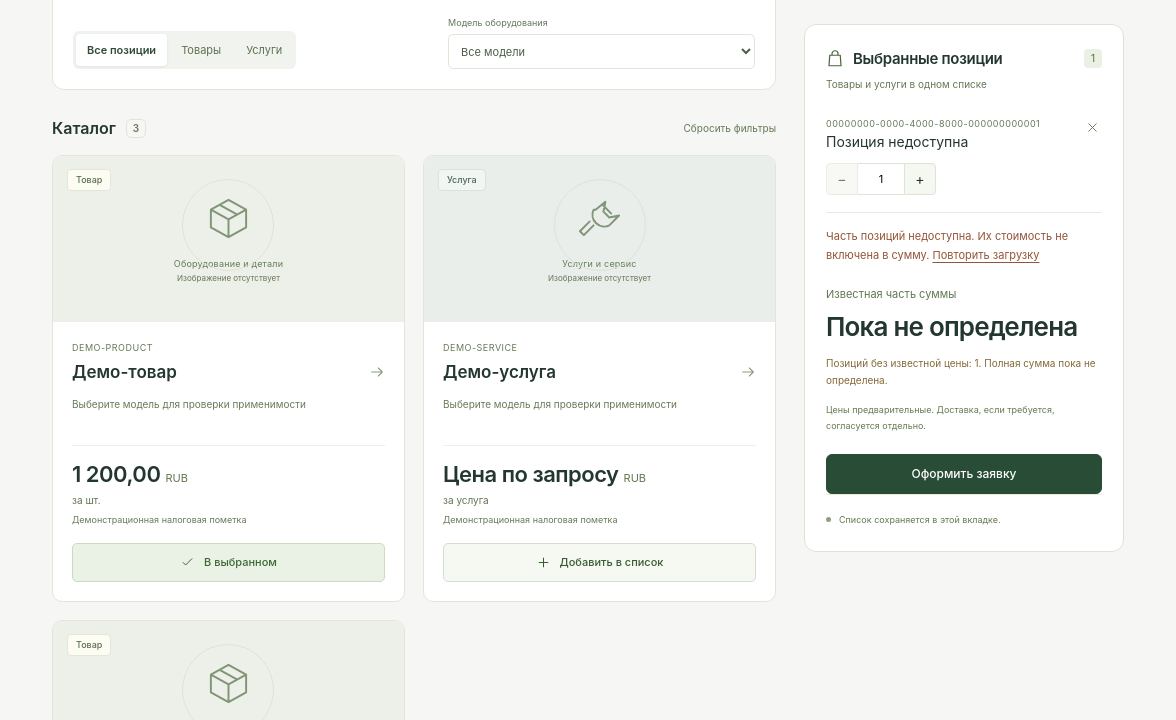
Test: catalog UI on approved fixtures › shows detail and selected-item errors, keeps unavailable IDs removable, retries
(page scrolled)
Expected: the text "Позиция недоступна" is shown, x1=826 y1=133 x2=968 y2=150
Expected: the text "Пока не определена" is shown, x1=826 y1=307 x2=1102 y2=346
What coordinates should you click on to do the following:
click the button "Демо-товар"
I would click on:
 (124, 372)
Its box is x1=72 y1=360 x2=385 y2=385.
(page scrolled)
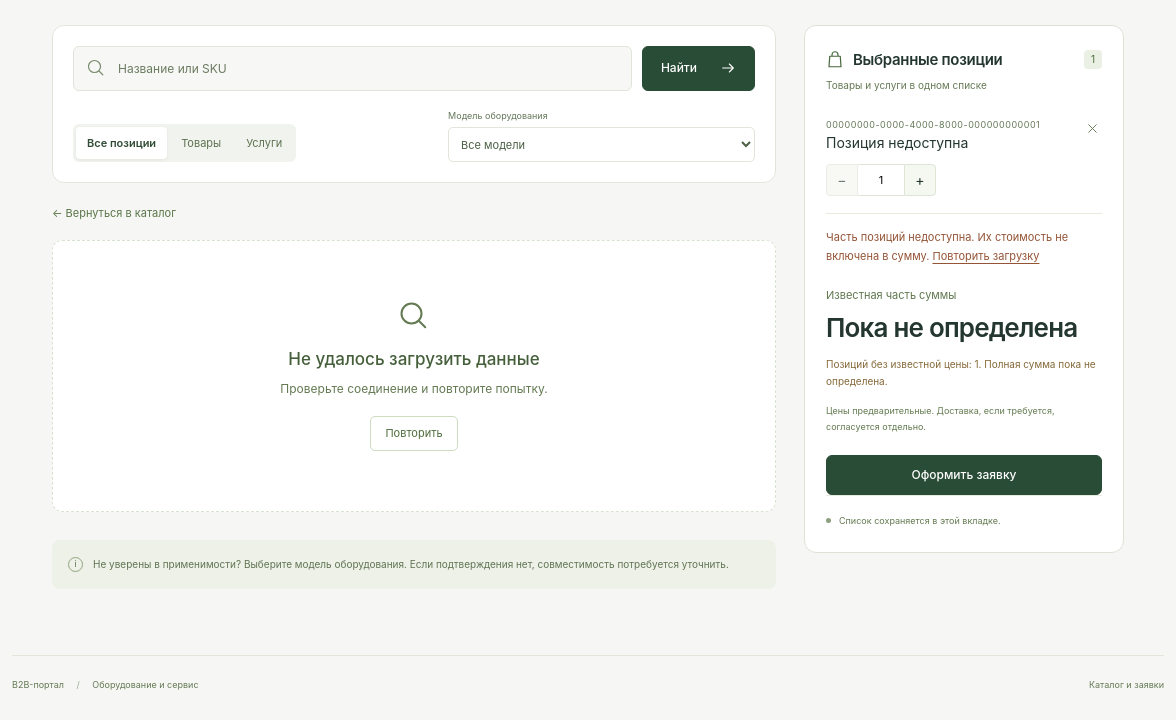
Now the heading "Не удалось загрузить данные" is shown, box x1=288 y1=347 x2=540 y2=372
What coordinates should you click on to do the following:
click the button "Повторить"
I would click on:
 (414, 433)
Its box is x1=370 y1=416 x2=458 y2=451.
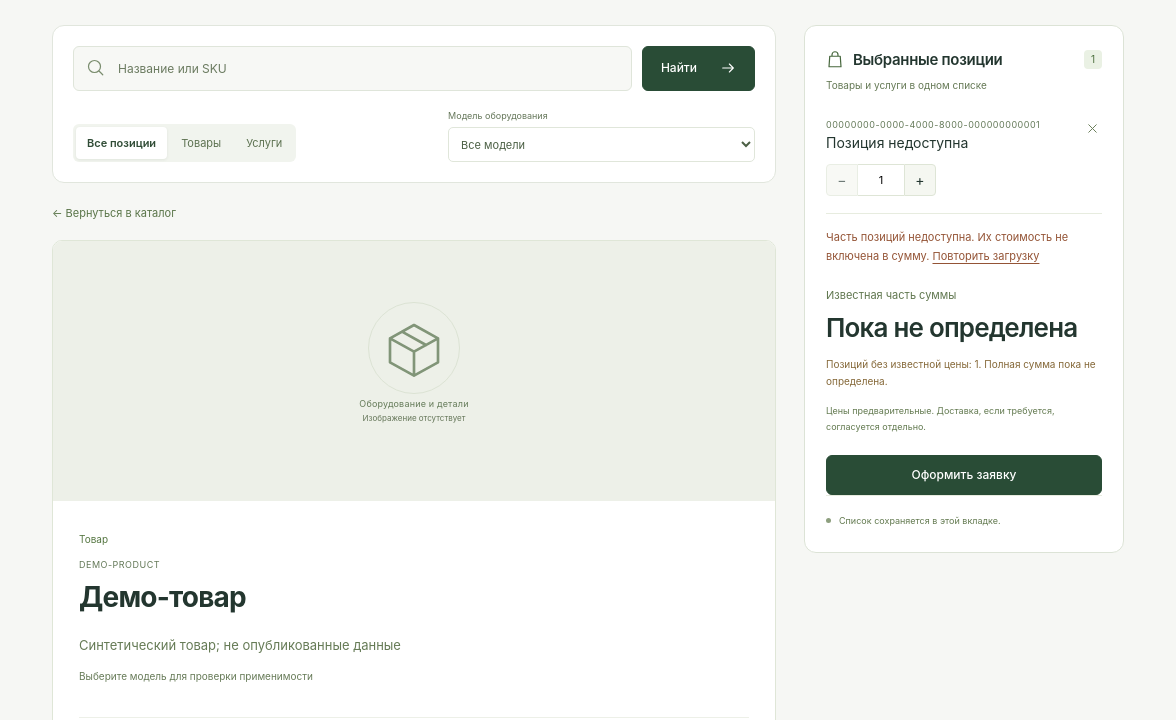
Now the text "Синтетический товар; не опубликованные данные" is shown, box x1=79 y1=637 x2=401 y2=653
What coordinates should you click on to do the following:
click the button "Повторить загрузку"
I would click on:
 (986, 257)
Its box is x1=932 y1=247 x2=1040 y2=267.
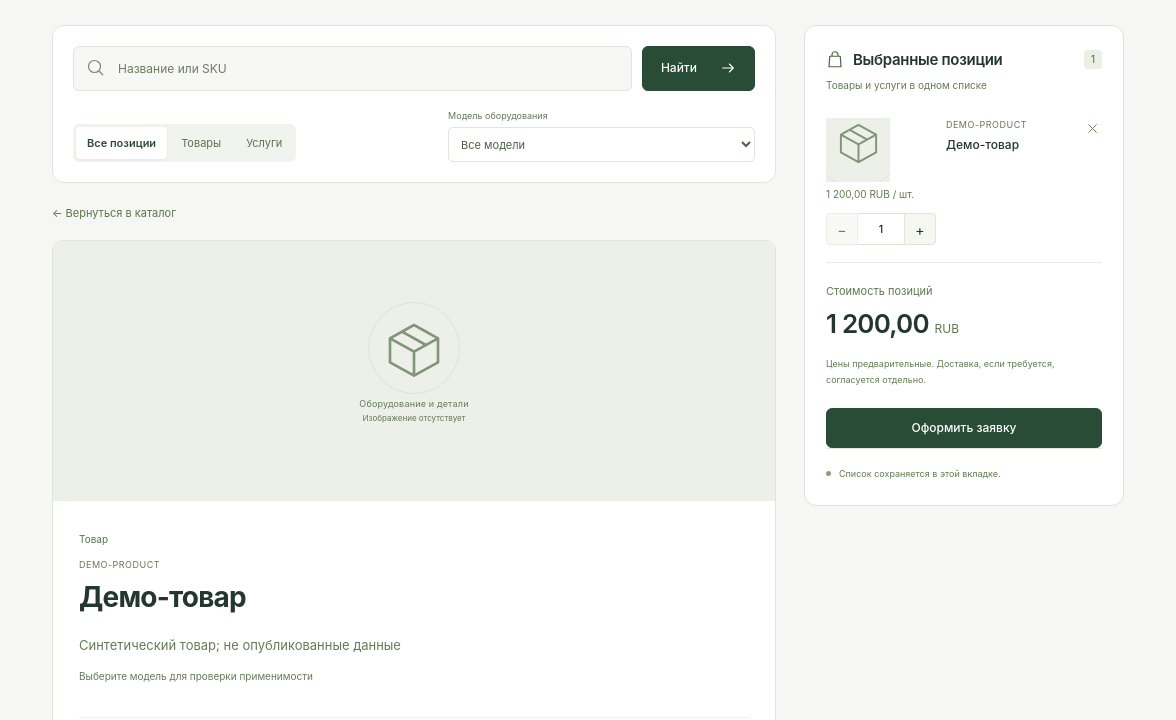
Now the button "Демо-товар" is shown, box x1=946 y1=132 x2=1019 y2=158
What coordinates should you click on to do the following:
click the button named "Удалить DEMO-PRODUCT"
I would click on:
 (1092, 131)
Its box is x1=1083 y1=118 x2=1102 y2=143.
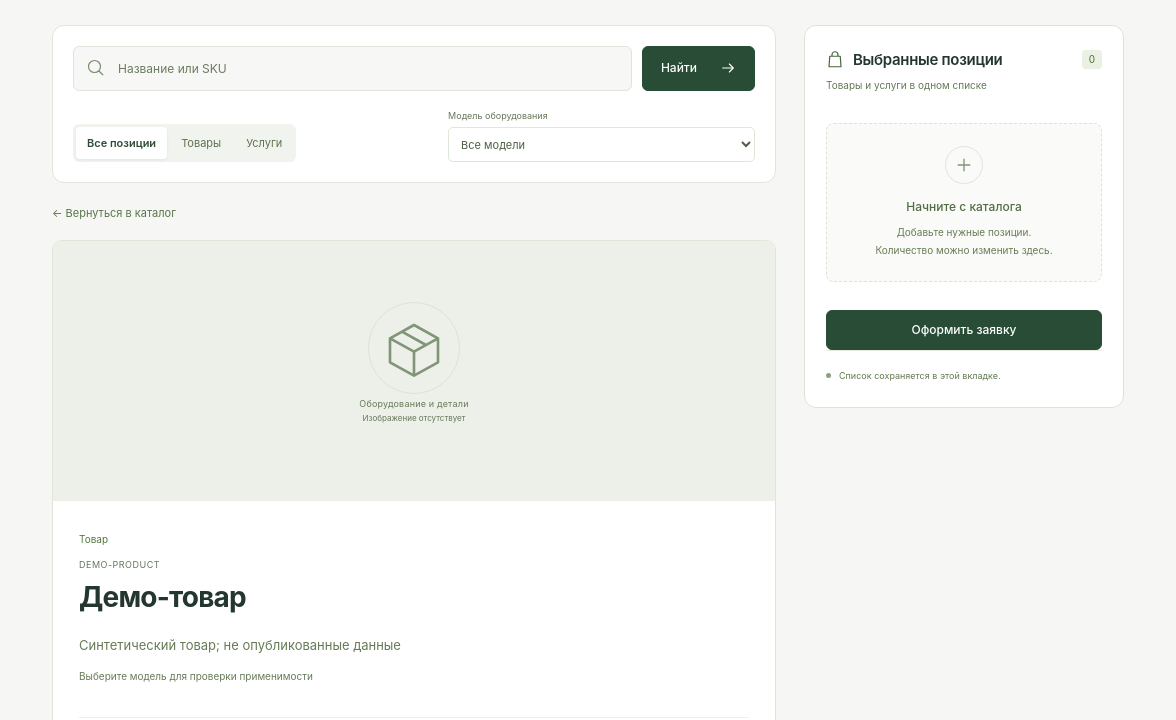
Now the heading "Начните с каталога" is shown, box x1=906 y1=199 x2=1022 y2=214
